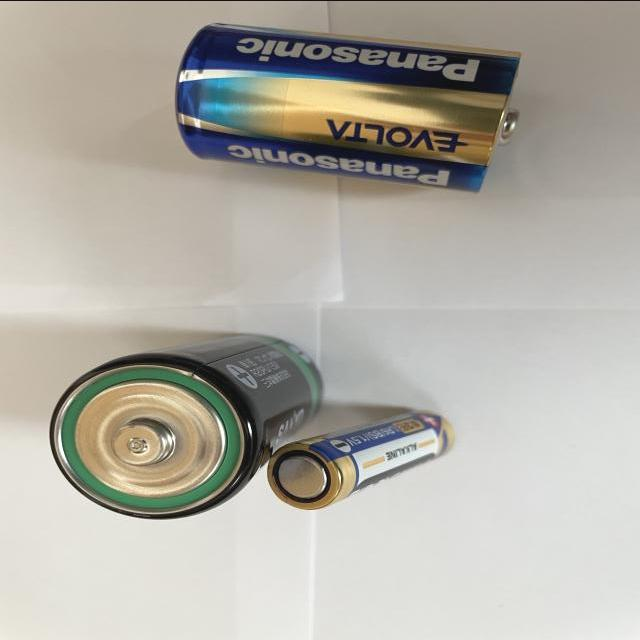AA: (267, 411, 458, 509)
